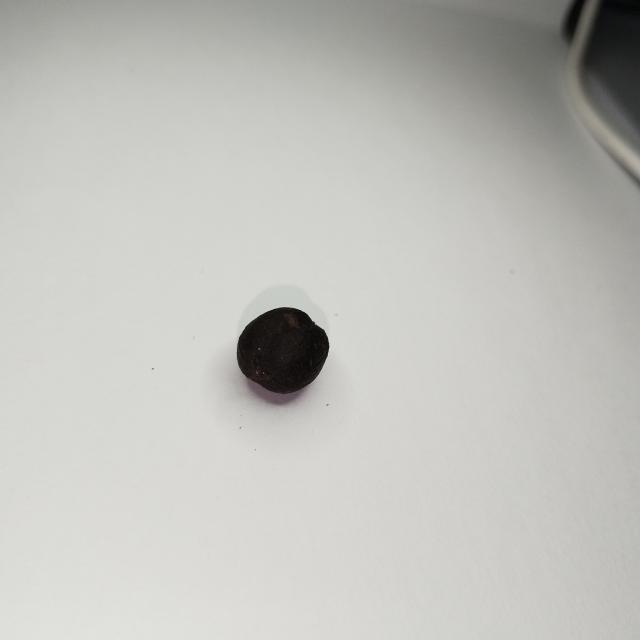Danado: (237, 308, 328, 393)
